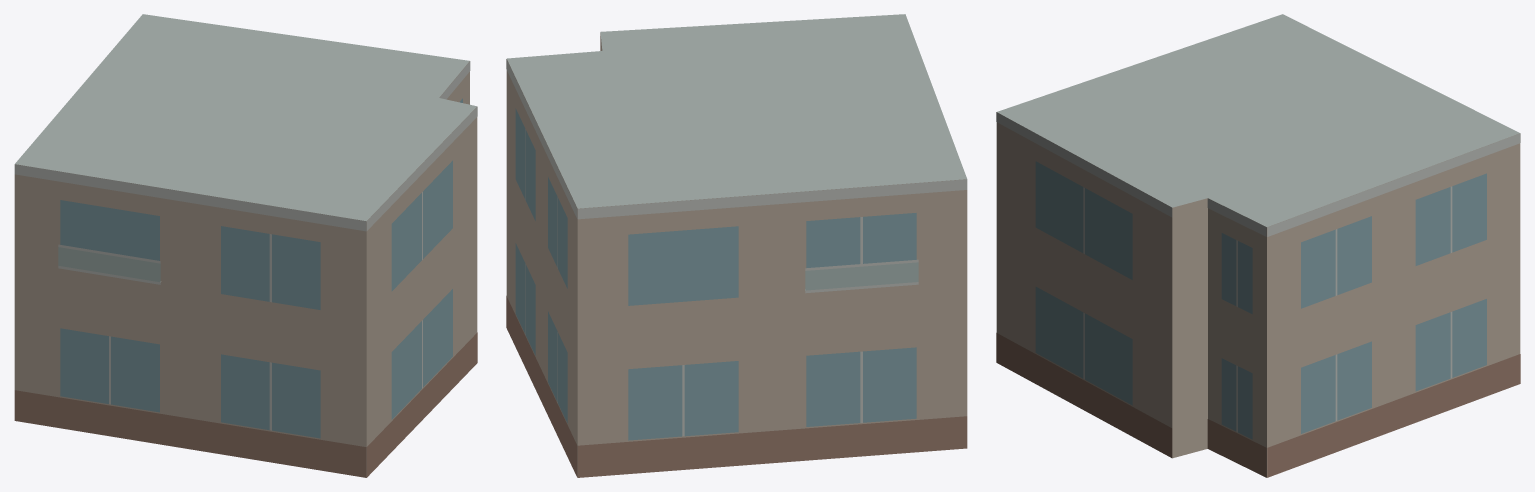
File: survey-upis-32923951.glb
3 views of the same model, side by side, from view 1: azimuth 30°, elevation 25°; view 2: azimuth 150°, elevation 25°; view 3: azimuth 270°, elevation 25° (orthographic). The views are drawn at different scales.
Parts seen in each view (by area): view 1: survey-upis-32923951.tmp; view 2: survey-upis-32923951.tmp; view 3: survey-upis-32923951.tmp.
Part boxes in pixels (bbox=[...]): survey-upis-32923951.tmp: bbox=[14, 14, 477, 477]; survey-upis-32923951.tmp: bbox=[506, 14, 967, 477]; survey-upis-32923951.tmp: bbox=[996, 14, 1520, 477].
Bounding box in the file's own units: 11.14 × 6.1 × 11.56.
